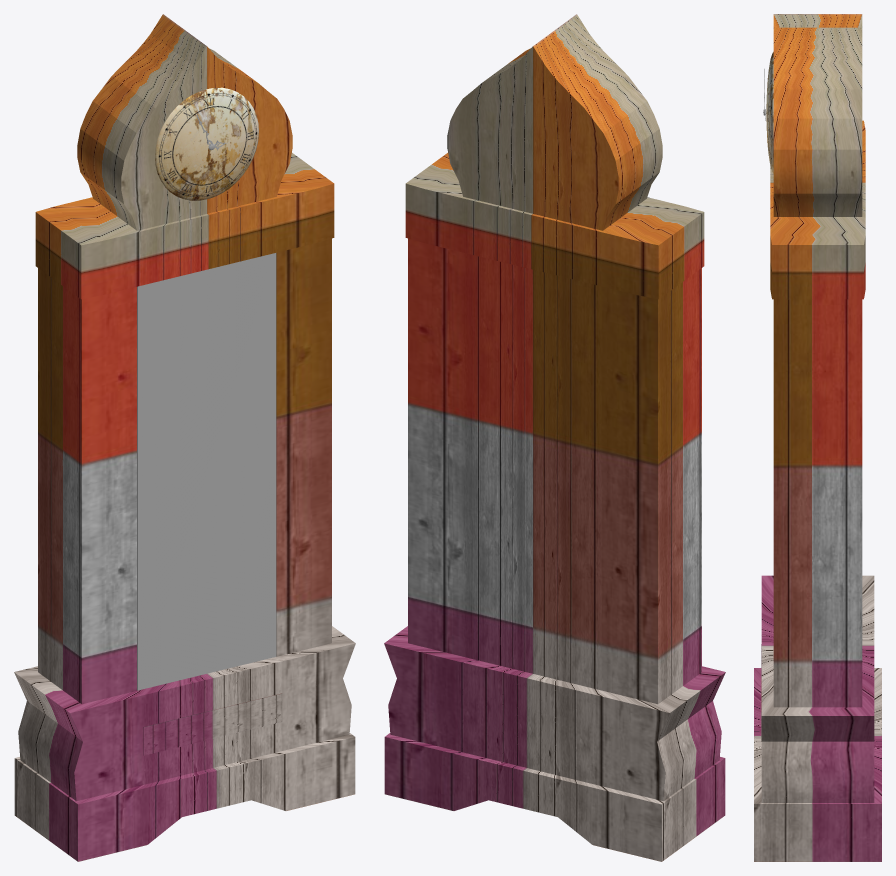
The model's file is Reloj.fbx.
3 views of the same model, side by side, from view 1: azimuth 30°, elevation 25°; view 2: azimuth 150°, elevation 25°; view 3: azimuth 270°, elevation 25° (orthographic).
Parts seen in each view (by area): view 1: polySurface1, pCube6, pSphere7, polySurface2; view 2: polySurface1; view 3: polySurface1, pSphere7.
Boxes of the visible parts, x1,y1,x2,y2 form: polySurface1: [14, 14, 355, 861]; pCube6: [137, 253, 276, 690]; pSphere7: [155, 87, 258, 200]; polySurface2: [143, 693, 282, 755]; polySurface1: [384, 14, 725, 861]; polySurface1: [754, 14, 881, 861]; pSphere7: [766, 52, 773, 173].
Size of the model in its own units: 10.35 by 26.82 by 3.98.
